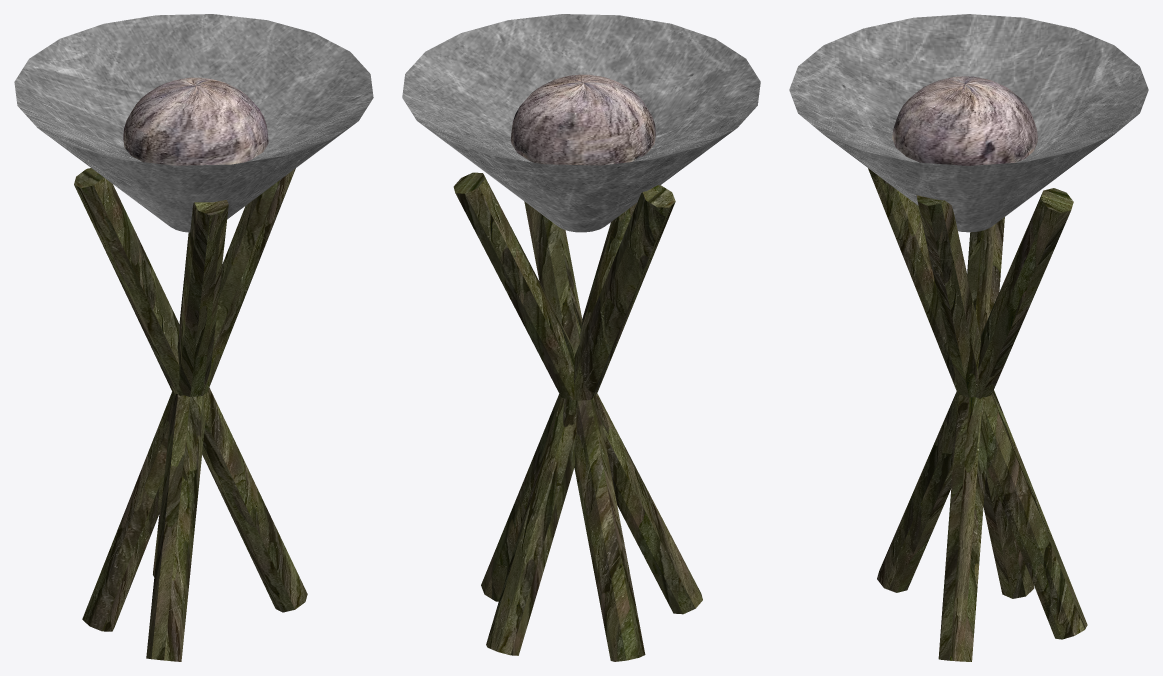
File: torch2.fbx
3 views of the same model, side by side, from view 1: azimuth 30°, elevation 25°; view 2: azimuth 150°, elevation 25°; view 3: azimuth 270°, elevation 25° (orthographic).
Visible parts, largest first — view 1: pCylinder6, pCylinder1, pSphere1; view 2: pCylinder6, pCylinder1, pSphere1; view 3: pCylinder6, pCylinder1, pSphere1.
Part boxes in pixels (box(x1,y1,x2,y2)): pCylinder6: box(74, 168, 307, 661); pCylinder1: box(14, 14, 373, 232); pSphere1: box(123, 77, 268, 165); pCylinder6: box(453, 172, 702, 661); pCylinder1: box(402, 14, 760, 232); pSphere1: box(510, 74, 655, 165); pCylinder6: box(868, 168, 1087, 661); pCylinder1: box(789, 14, 1148, 232); pSphere1: box(892, 76, 1037, 165).
Bounding box in the file's own units: 6.05 × 10.08 × 6.05.
